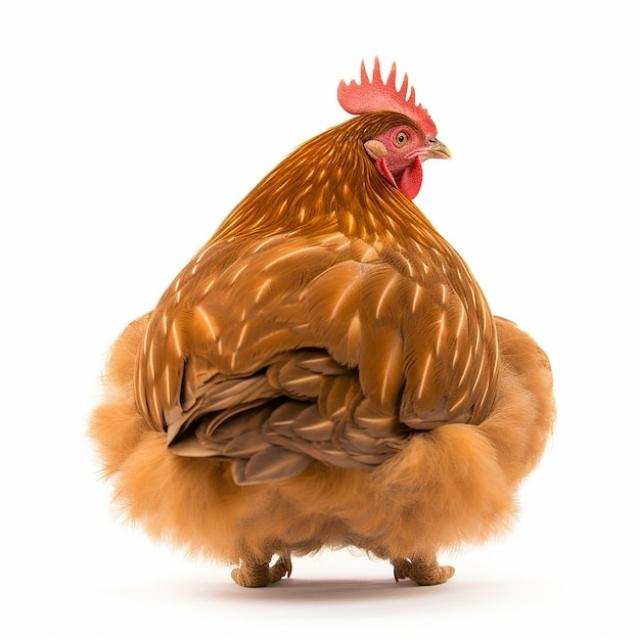Chicken: (84, 54, 556, 588)
